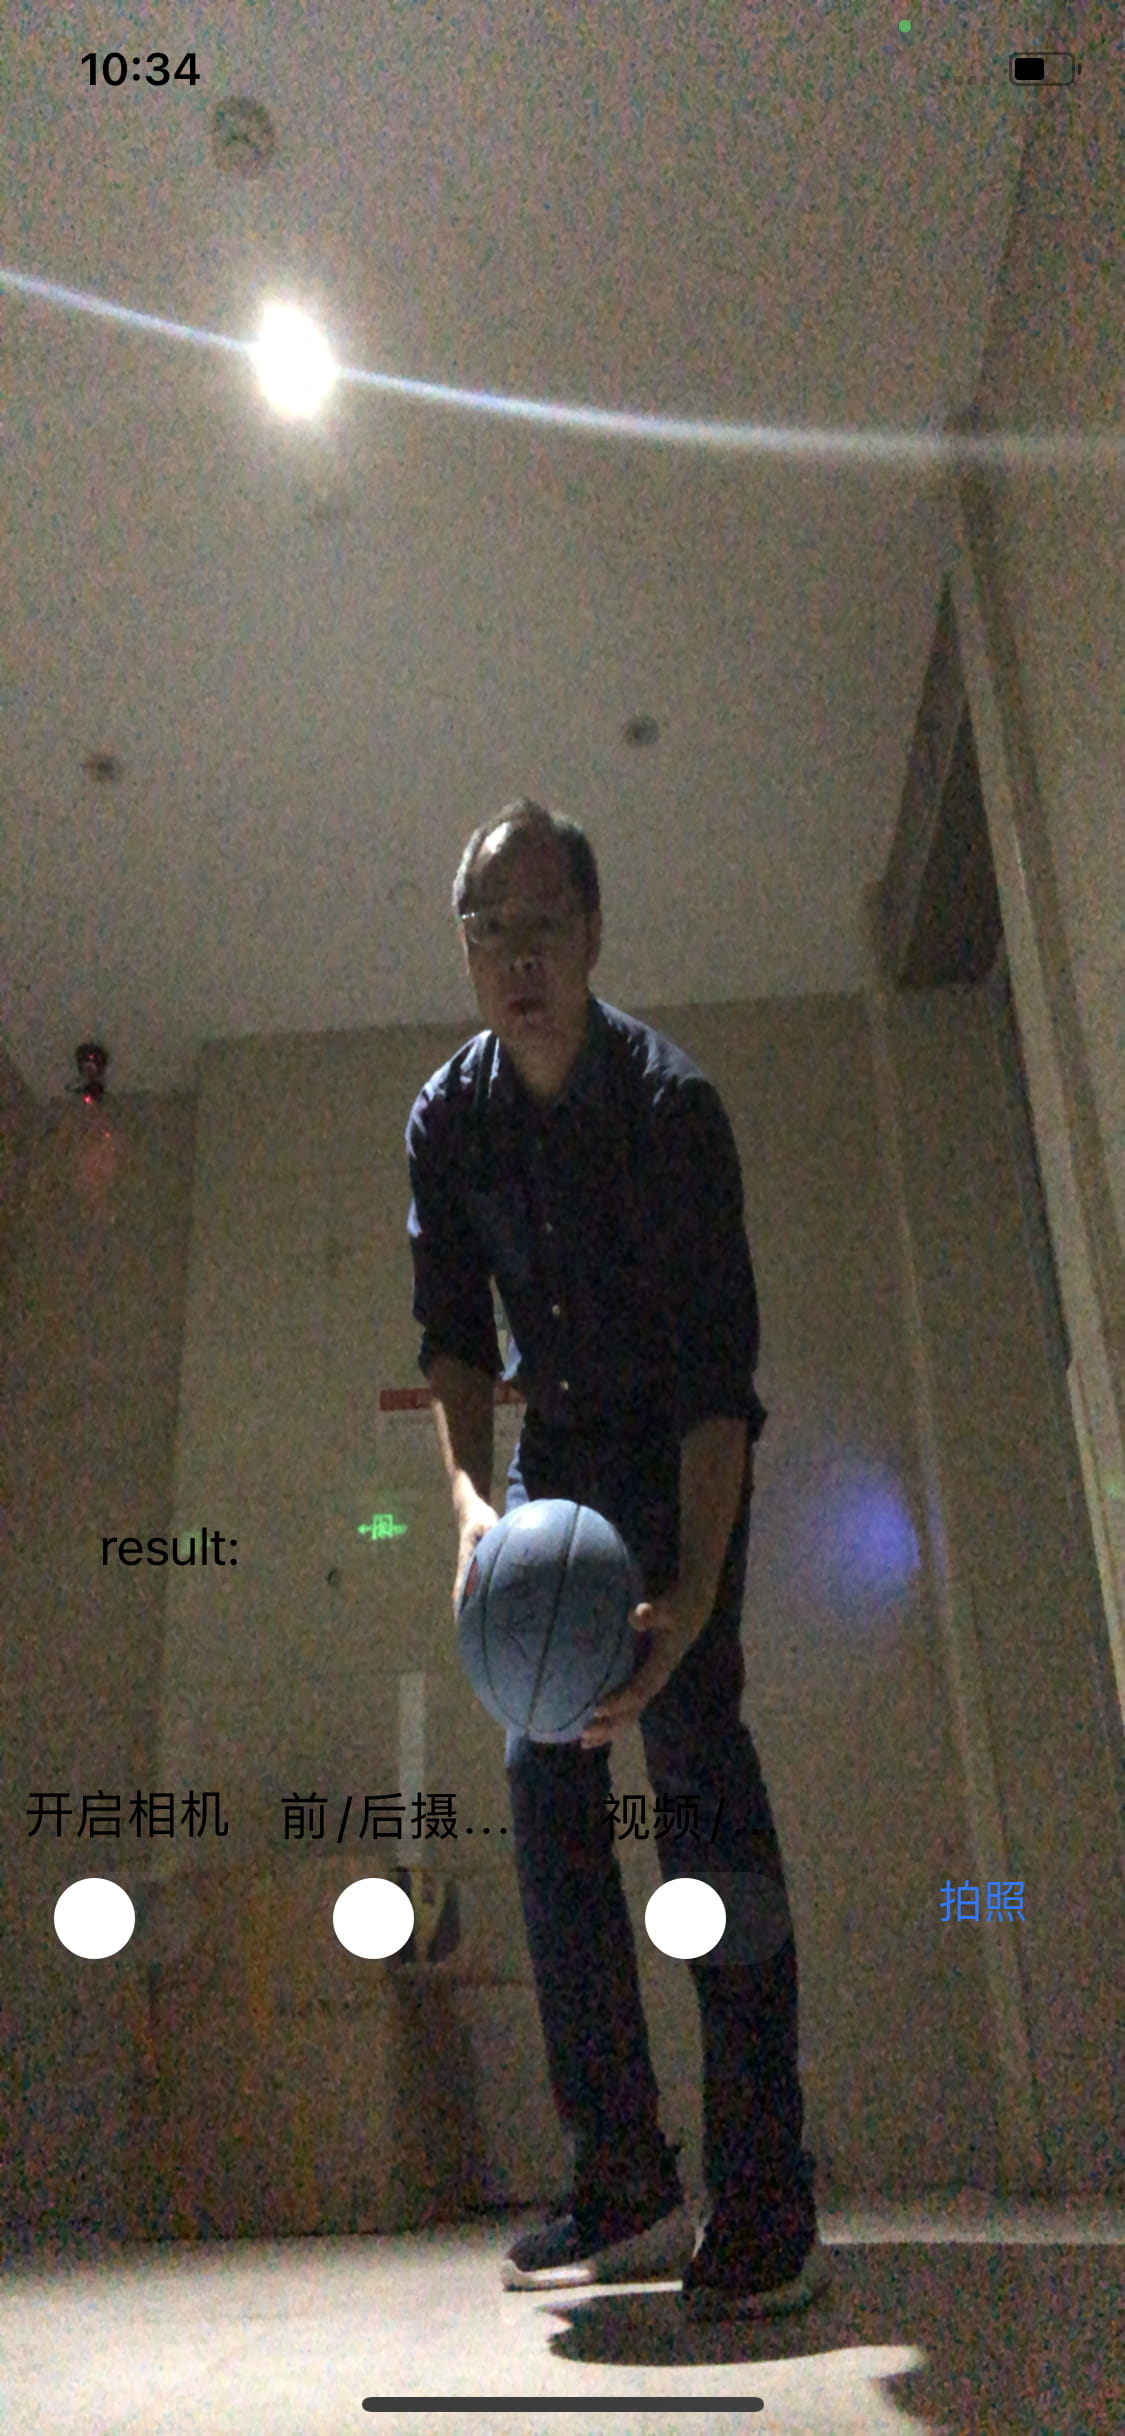ball: (455, 1499, 646, 1746)
